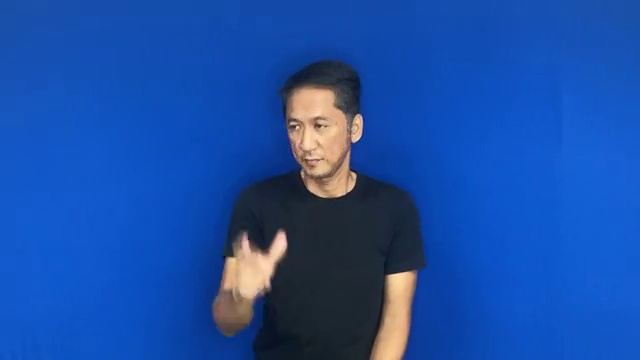chicken: (213, 223, 299, 305)
